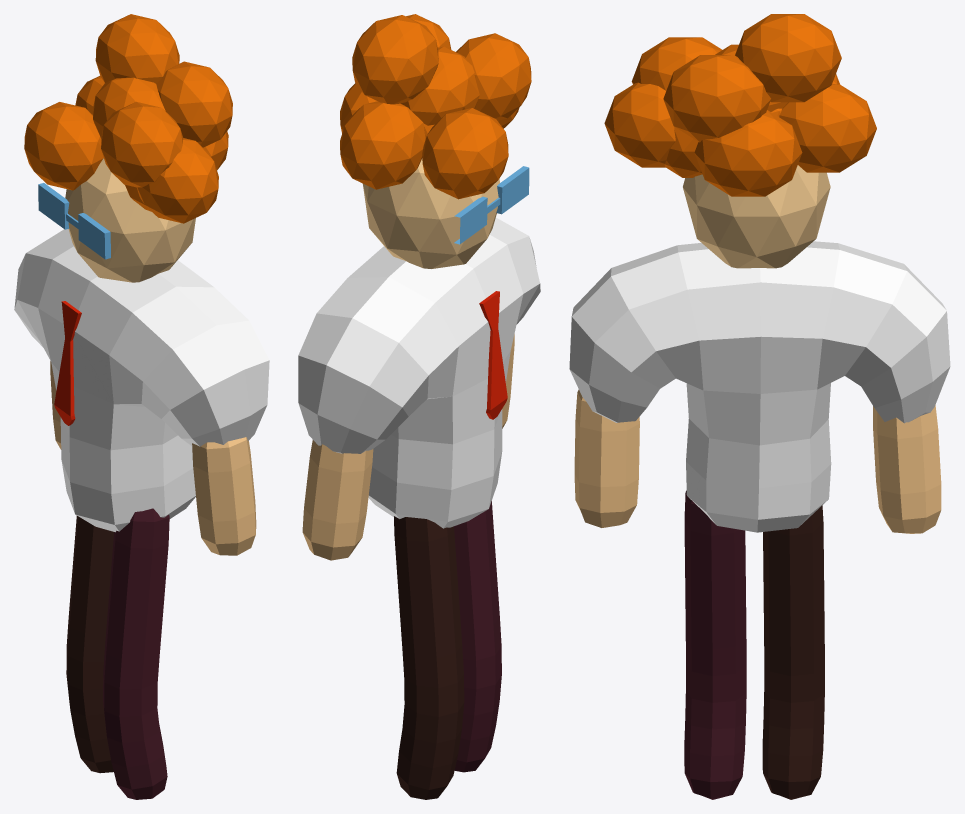
Rendered from villain.fbx.
The picture shows the model from 3 angles, left to right: view 1: azimuth 30°, elevation 25°; view 2: azimuth 150°, elevation 25°; view 3: azimuth 270°, elevation 25°; orthographic projection. The views are drawn at different scales.
Visible parts, largest first — view 1: Плоскость, Икосфера.009, Плоскость.004, Плоскость.003, Икосфера, Плоскость.001, Плоскость.002, Куб; view 2: Плоскость, Икосфера.009, Плоскость.003, Плоскость.004, Икосфера, Плоскость.001, Плоскость.002, Куб; view 3: Плоскость, Икосфера.009, Плоскость.004, Плоскость.003, Плоскость.001, Икосфера.
Boxes of the visible parts, left/top/right/bottom form: Плоскость: left=14, top=229, right=269, bottom=532; Икосфера.009: left=24, top=14, right=232, bottom=223; Плоскость.004: left=103, top=508, right=169, bottom=799; Плоскость.003: left=66, top=515, right=114, bottom=773; Икосфера: left=65, top=158, right=195, bottom=282; Плоскость.001: left=50, top=361, right=256, bottom=555; Плоскость.002: left=38, top=183, right=110, bottom=259; Куб: left=54, top=301, right=81, bottom=425; Плоскость: left=298, top=217, right=540, bottom=528; Икосфера.009: left=340, top=14, right=531, bottom=199; Плоскость.003: left=394, top=516, right=464, bottom=799; Плоскость.004: left=454, top=501, right=501, bottom=772; Икосфера: left=363, top=158, right=499, bottom=268; Плоскость.001: left=302, top=334, right=514, bottom=560; Плоскость.002: left=454, top=166, right=529, bottom=244; Куб: left=479, top=291, right=507, bottom=419; Плоскость: left=569, top=241, right=950, bottom=532; Икосфера.009: left=604, top=14, right=876, bottom=196; Плоскость.004: left=684, top=490, right=746, bottom=799; Плоскость.003: left=762, top=505, right=824, bottom=799; Плоскость.001: left=574, top=389, right=941, bottom=533; Икосфера: left=683, top=165, right=830, bottom=268.
Size of the model in its own units: 103 by 436 by 189.
